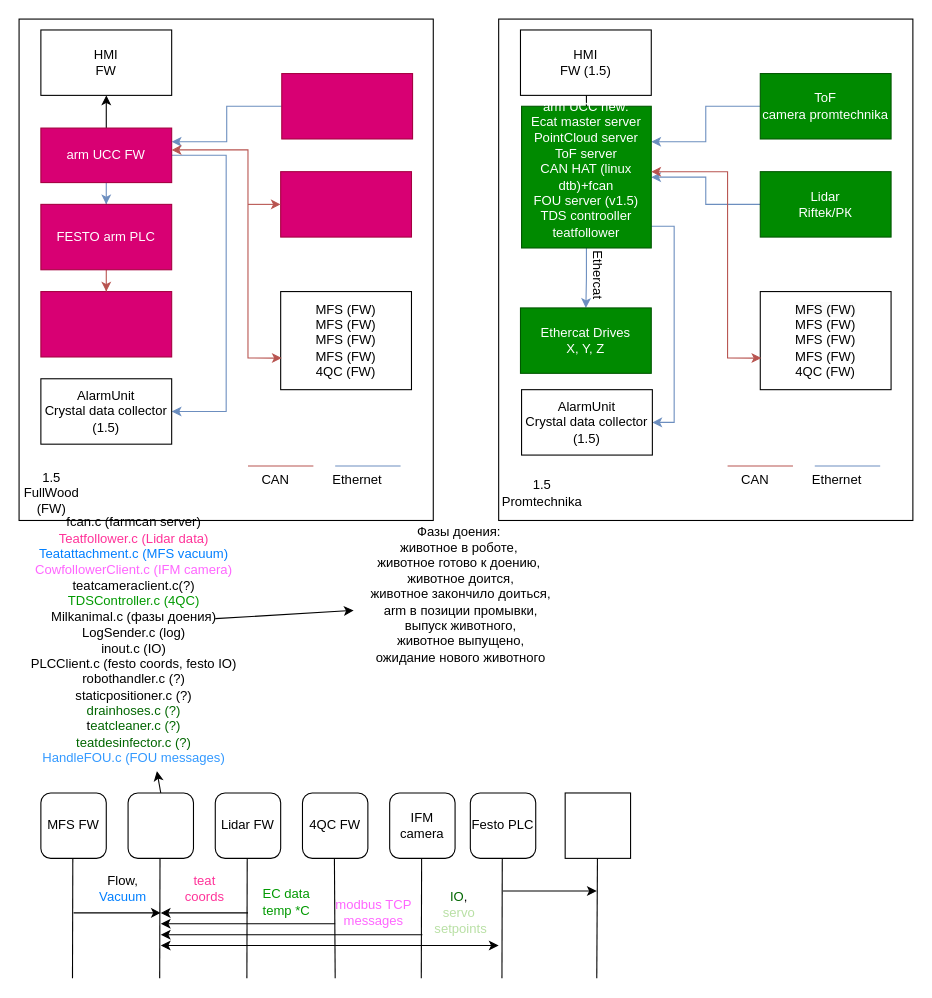
Some shapes in this 932 by 998 pixel diagram are drawn without their labels. The shapes that lost their labels are listed below. From the top down, each one's centre as x and y in pixels, then its label:
At (x=347, y=105): "ToF camera FW".
At (x=345, y=204): "Lidar Lely (FW)".
At (x=106, y=323): "CanOpen Festo Drives X, Y, Z".
At (x=160, y=825): "UCC FW".
At (x=597, y=825): "Festo servo drivers".
